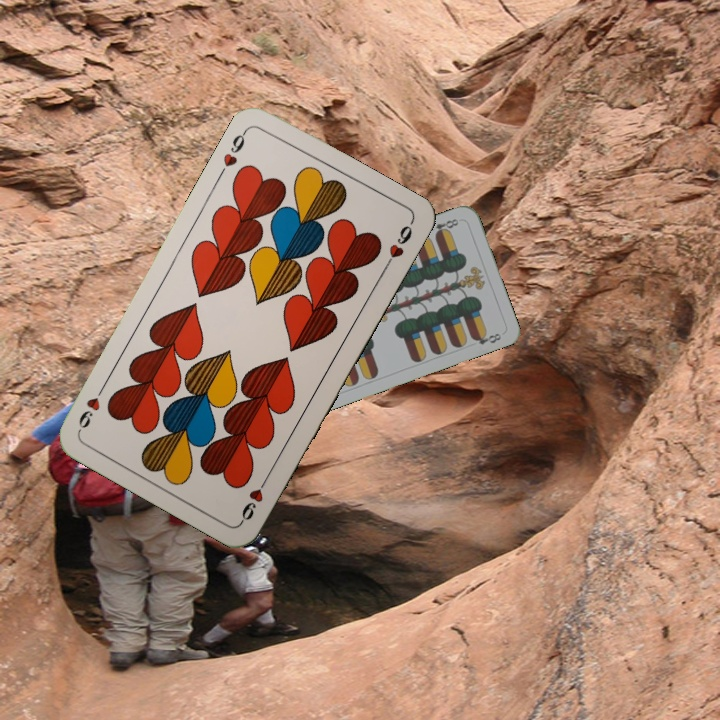E8: (431, 215, 461, 239)
H9: (236, 471, 272, 525), (215, 125, 250, 179)
